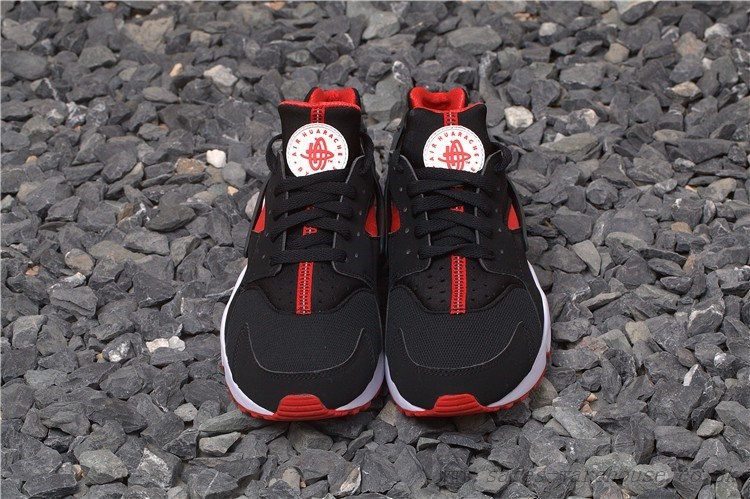Air Huarache Bred: (210, 80, 388, 443), (377, 79, 557, 430)
